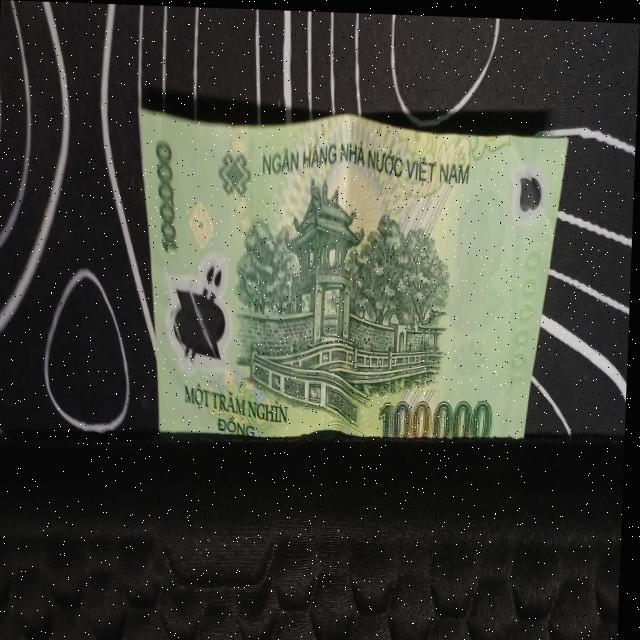100 000 VND: (113, 99, 574, 469)
